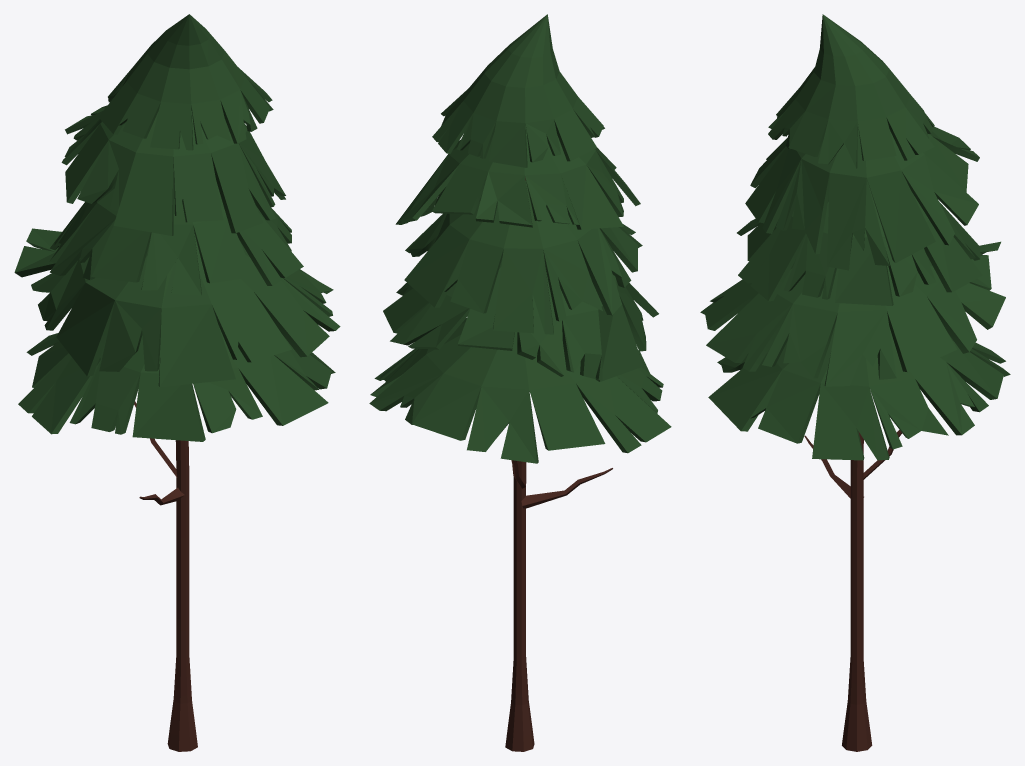
Rendered from SM_tree_conifer_03.fbx.
3 views of the same model, side by side, from view 1: azimuth 30°, elevation 25°; view 2: azimuth 150°, elevation 25°; view 3: azimuth 270°, elevation 25° (orthographic). The views are drawn at different scales.
Visible parts, largest first — view 1: Line116; view 2: Line116; view 3: Line116.
Boxes of the visible parts, x1=… form: Line116: x1=14, y1=14, x2=340, y2=751; Line116: x1=369, y1=14, x2=671, y2=751; Line116: x1=700, y1=14, x2=1010, y2=751.
Bounding box in the file's own units: 149 × 382 × 148.
